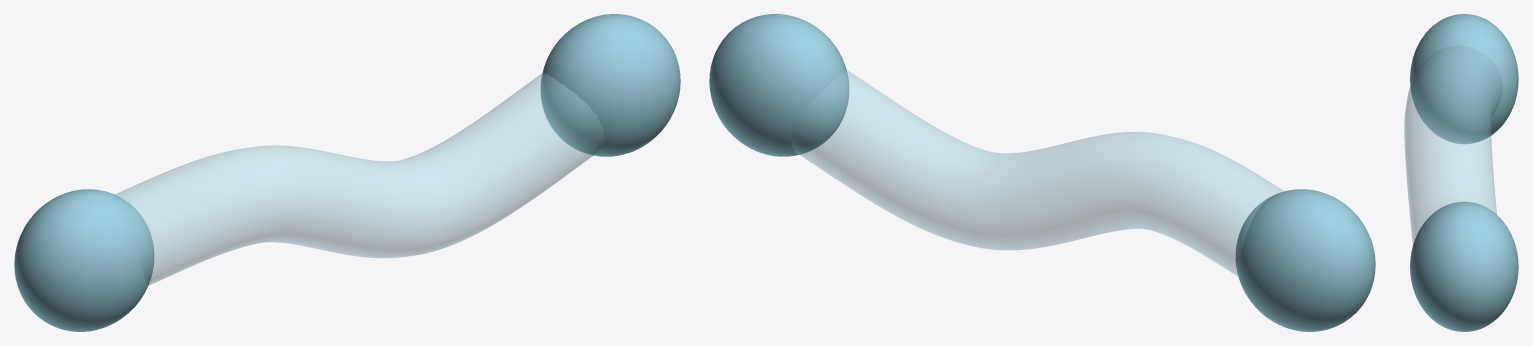
The picture shows the model from 3 angles, left to right: view 1: azimuth 30°, elevation 25°; view 2: azimuth 150°, elevation 25°; view 3: azimuth 270°, elevation 25°; orthographic projection. The views are drawn at different scales.
Visible parts, largest first — view 1: elastic-connector, connector-port-1, connector-port--1; view 2: elastic-connector, connector-port--1, connector-port-1; view 3: elastic-connector, connector-port-1, connector-port--1.
Part boxes in pixels (<box>): elastic-connector: <box>115,73,604,285</box>; connector-port-1: <box>540,14,680,156</box>; connector-port--1: <box>14,189,154,331</box>; elastic-connector: <box>791,70,1283,276</box>; connector-port--1: <box>1235,189,1375,331</box>; connector-port-1: <box>709,14,849,156</box>; elastic-connector: <box>1404,45,1502,243</box>; connector-port-1: <box>1410,201,1518,331</box>; connector-port--1: <box>1410,14,1518,144</box>.
Bounding box in the file's own units: 2.48 × 0.65 × 0.4208.
